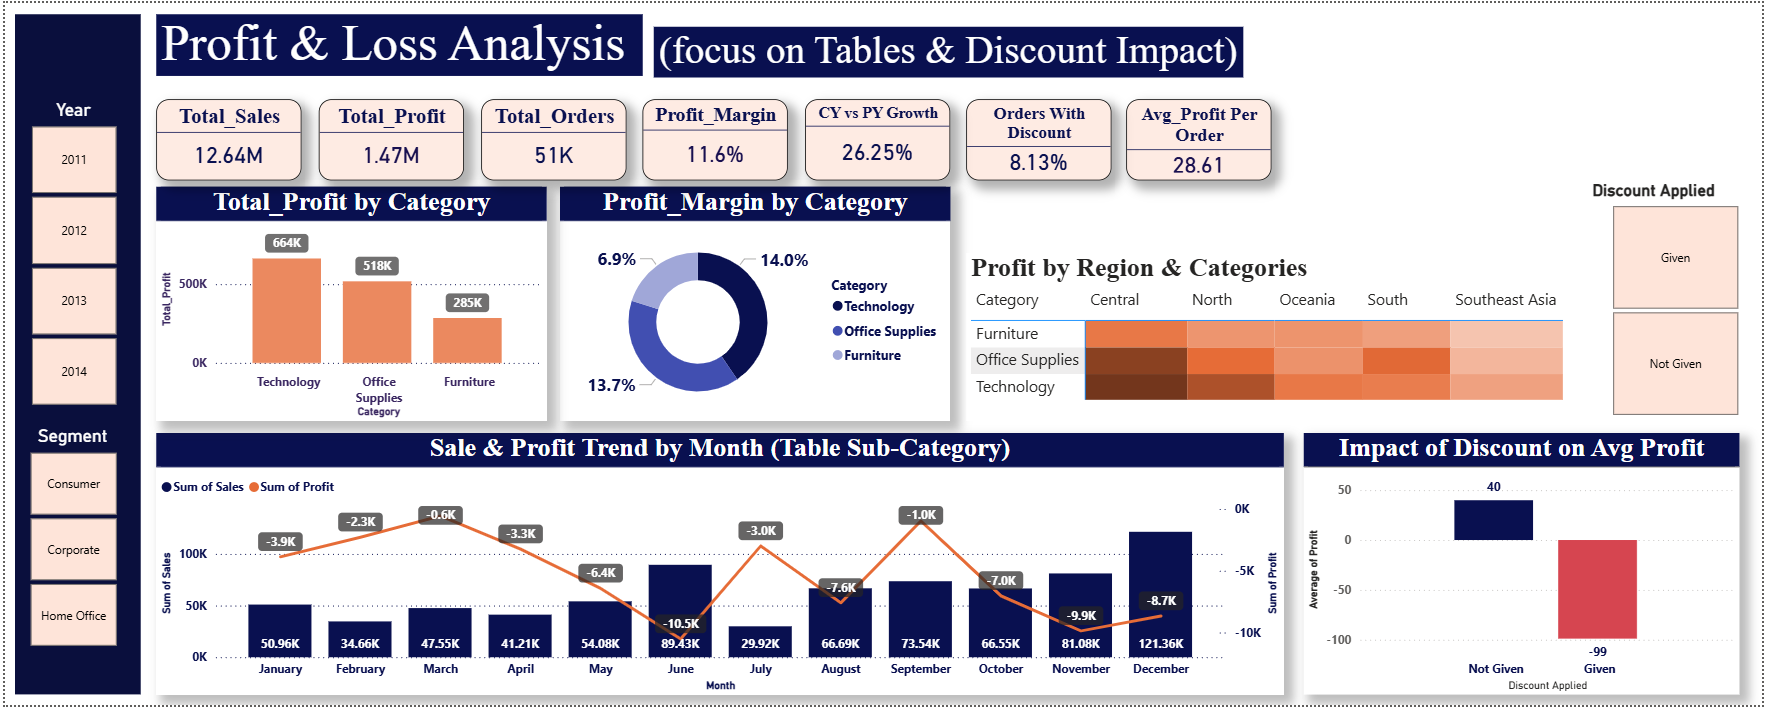

The page's visual inventory and layout, read from the dashboard file:
{"tool":"powerbi","page":{"name":"Dashboard_Pg2","canvas":[1800,720],"ordinal":1},"visuals":[{"type":"textbox","box":[10,11.4,128.6,697.1],"z":0},{"type":"lineStackedColumnComboChart","title":"Sale & Profit Trend by Month (Table Sub-Category)","fields":{"Y":["Sum(superstore.Sales)"],"Y2":["Sum(superstore.Profit)"],"Category":["superstore.OrderDate.Variation.Date Hierarchy.Year","superstore.OrderDate.Variation.Date Hierarchy.Quarter","superstore.OrderDate.Variation.Date Hierarchy.Month","superstore.OrderDate.Variation.Date Hierarchy.Day"]},"box":[155,440,1155,268.3],"z":1000},{"type":"textbox","title":"Profit & Loss Analysis","box":[155,11.7,498.3,63.3],"z":2000},{"type":"clusteredColumnChart","fields":{"Category":["superstore.Category"],"Y":["Measure Table.Total_Profit"]},"box":[155,188.3,400,240],"z":3000},{"type":"card","title":"Total_Sales","fields":{"Values":["Measures_Table.Total_Sales"]},"box":[155.1,98.2,148.6,82.9],"z":4000},{"type":"textbox","title":"(focus on Tables & Discount Impact)","box":[664,24,604,52],"z":5000},{"type":"card","title":"Avg_Profit Per Order","fields":{"Values":["Measure Table.Avg_Profit_Per_Order"]},"box":[1148.6,98.6,148.6,82.9],"z":6000},{"type":"card","title":"Orders With Discount","fields":{"Values":["Measure Table.% Orders_with_discount"]},"box":[984.3,98.6,148.6,82.9],"z":7000},{"type":"donutChart","fields":{"Category":["superstore.Category"],"Y":["Measure Table.Profit_Margin"]},"box":[568.3,188.3,400,240],"z":8000},{"type":"pivotTable","title":"Profit by Region & Categories","fields":{"Values":["Sum(superstore.Profit)"],"Columns":["superstore.Region"],"Rows":["superstore.Category"]},"box":[985,256.7,620,171.7],"z":9000},{"type":"card","title":"Total_Profit","fields":{"Values":["Measures_Table.Total_Profit"]},"box":[321.2,98.2,148.6,82.9],"z":10000},{"type":"card","title":"Total_Orders","fields":{"Values":["Measures_Table.Total_Orders"]},"box":[487.3,98.2,148.6,82.9],"z":11000},{"type":"card","title":"Profit_Margin","fields":{"Values":["Measures_Table.Profit_Margin"]},"box":[653.4,98.2,148.6,82.9],"z":12000},{"type":"card","title":"CY vs PY Growth ","fields":{"Values":["Measure Table.Current yr vs prior Year Growth %"]},"box":[819.4,98.2,148.6,82.9],"z":13000},{"type":"columnChart","title":"Impact of Discount on Avg Profit","fields":{"Category":["superstore.Discount Applied"],"Y":["Avg(superstore.Profit)"]},"box":[1330,440,446.7,268.3],"z":14000},{"type":"slicer","title":"Discount Applied","fields":{"Values":["superstore.Discount Applied"]},"box":[1621.7,181.7,178.3,246.7],"z":15000},{"type":"slicer","title":"Segment","fields":{"Values":["superstore.Segment"]},"box":[0,432.9,138.6,232.9],"z":16000},{"type":"slicer","title":"Year","fields":{"Values":["superstore.Year"]},"box":[1.4,98.6,137.1,320],"z":17000}]}

Visuals, with their boxes in screenshot pixels (x1, y1, x2, y2), scaled from the page's 1800x720 canvas onto the 1766x708 screenshot:
textbox: left=10, top=11, right=136, bottom=697
"Sale & Profit Trend by Month (Table Sub-Category)" lineStackedColumnComboChart: left=152, top=433, right=1285, bottom=696
"Profit & Loss Analysis" textbox: left=152, top=12, right=641, bottom=74
clusteredColumnChart - superstore.Category x Measure Table.Total_Profit: left=152, top=185, right=545, bottom=421
"Total_Sales" card: left=152, top=97, right=298, bottom=178
"(focus on Tables & Discount Impact)" textbox: left=651, top=24, right=1244, bottom=75
"Avg_Profit Per Order" card: left=1127, top=97, right=1273, bottom=178
"Orders With Discount" card: left=966, top=97, right=1112, bottom=178
donutChart - superstore.Category x Measure Table.Profit_Margin: left=558, top=185, right=950, bottom=421
"Profit by Region & Categories" pivotTable: left=966, top=252, right=1575, bottom=421
"Total_Profit" card: left=315, top=97, right=461, bottom=178
"Total_Orders" card: left=478, top=97, right=624, bottom=178
"Profit_Margin" card: left=641, top=97, right=787, bottom=178
"CY vs PY Growth " card: left=804, top=97, right=950, bottom=178
"Impact of Discount on Avg Profit" columnChart: left=1305, top=433, right=1743, bottom=696
"Discount Applied" slicer: left=1591, top=179, right=1765, bottom=421
"Segment" slicer: left=0, top=426, right=136, bottom=655
"Year" slicer: left=1, top=97, right=136, bottom=412
